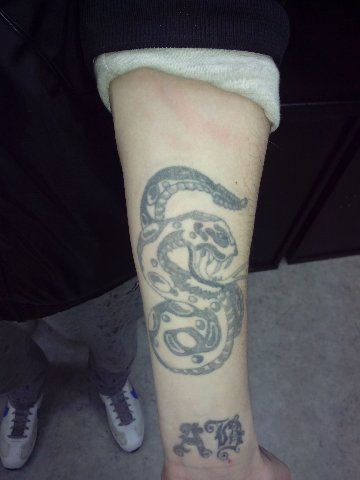tatu7_zmeya: (129, 147, 260, 402)
